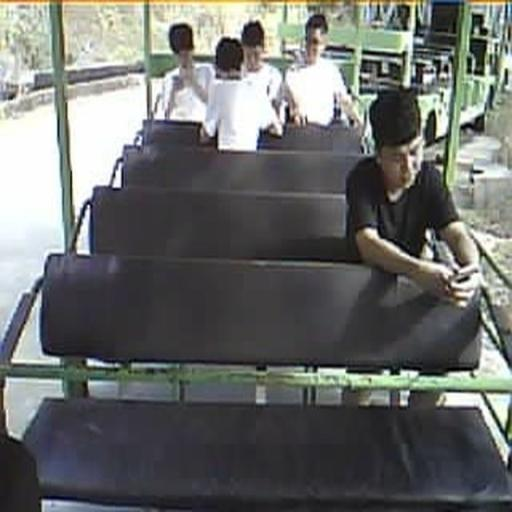persona: (342, 84, 484, 409), (344, 86, 482, 309), (284, 13, 362, 133), (201, 36, 281, 151), (239, 19, 303, 132), (152, 22, 215, 124)
